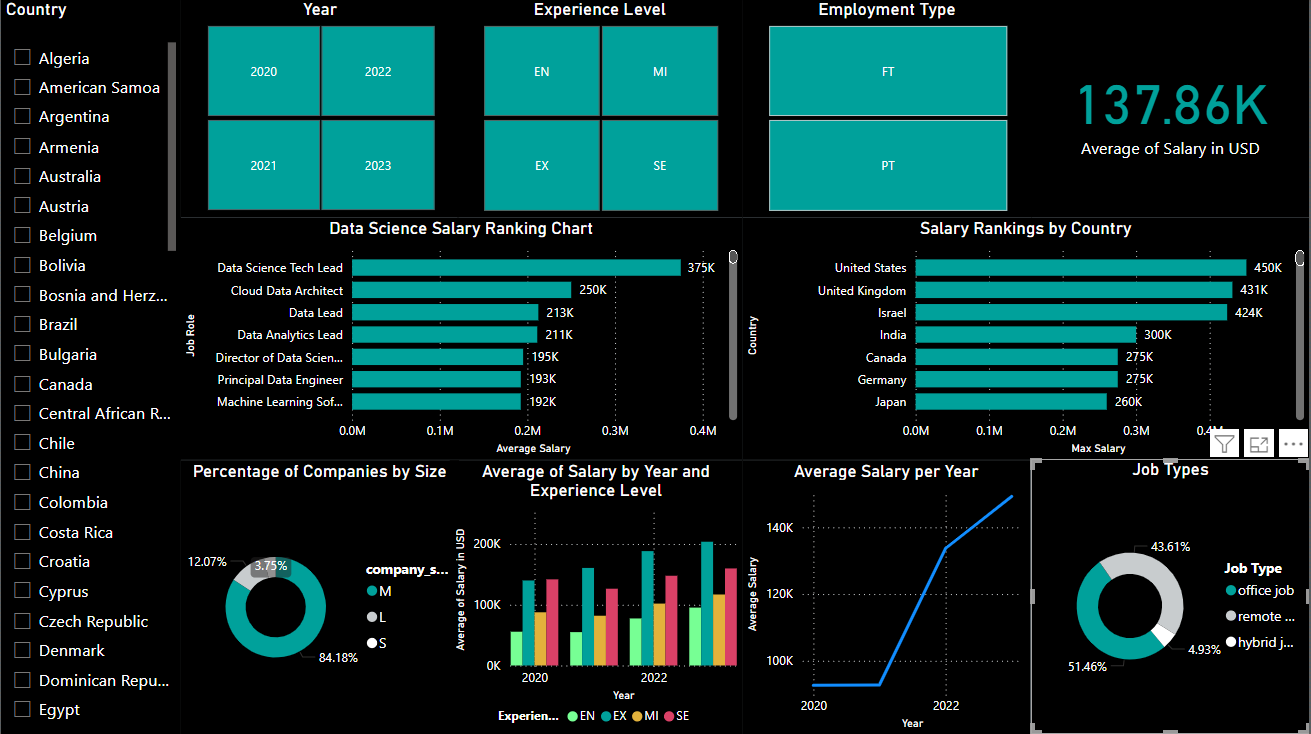

This screenshot's page, from the dashboard's own definition file:
{"tool":"powerbi","page":{"name":"Page 1","canvas":[1280,720],"ordinal":0},"visuals":[{"type":"slicer","title":"Country","fields":{"Values":["ds_salaries_cleaned.employee_residence_full"]},"box":[0,0,175.8,719.3],"z":0},{"type":"slicer","title":"Employment Type","fields":{"Values":["ds_salaries_cleaned.employment_type"]},"box":[725.4,0,283.2,213.9],"z":1000},{"type":"card","title":"Average Salary","fields":{"Values":["Avg(ds_salaries_cleaned.salary_in_usd)"]},"box":[1007.1,0,273.2,213.6],"z":2000},{"type":"slicer","title":"Experience Level","fields":{"Values":["ds_salaries_cleaned.experience_level"]},"box":[446.5,0,278.9,213.9],"z":3000},{"type":"slicer","title":"Year","fields":{"Values":["ds_salaries_cleaned.work_year"]},"box":[175.8,0,271.8,213.6],"z":4000},{"type":"lineChart","title":"Average Salary per Year","fields":{"Y":["Avg(ds_salaries_cleaned.salary_in_usd)"],"Category":["ds_salaries_cleaned.work_year"]},"box":[725.4,450.8,281.8,268.8],"z":5000},{"type":"barChart","title":"Data Science Salary Ranking Chart","fields":{"Category":["ds_salaries_cleaned.job_title"],"Y":["Avg(ds_salaries_cleaned.salary_in_usd)"]},"box":[174.8,213.9,550.6,237],"z":6000},{"type":"barChart","title":"Salary Rankings by Country","fields":{"Category":["ds_salaries_cleaned.employee_residence_full"],"Y":["Max(ds_salaries_cleaned.salary_in_usd)"]},"box":[725.4,213.9,554.9,237],"z":7000},{"type":"donutChart","title":"Job Types","fields":{"Y":["CountNonNull(ds_salaries_cleaned.remote_ratio)"],"Category":["ds_salaries_cleaned.remote_ratio_full"]},"box":[1007.1,450.5,273.2,268.8],"z":8000},{"type":"donutChart","title":"Percentage of Companies by Size","fields":{"Category":["ds_salaries_cleaned.company_size"],"Y":["CountNonNull(ds_salaries_cleaned.company_size)"]},"box":[176.3,450.8,271.7,268.8],"z":9000},{"type":"clusteredColumnChart","title":"Average of Salary by Year and Experience Level","fields":{"Y":["Avg(ds_salaries_cleaned.salary_in_usd)"],"Category":["ds_salaries_cleaned.work_year"],"Series":["ds_salaries_cleaned.experience_level"]},"box":[439.3,450.8,286.1,268.8],"z":10000}]}

Visuals, with their boxes in screenshot pixels (x1, y1, x2, y2), scaled from the page's 1280x720 canvas onto the 1311x734 screenshot:
"Country" slicer: bbox=(0, 0, 180, 733)
"Employment Type" slicer: bbox=(743, 0, 1033, 218)
"Average Salary" card: bbox=(1031, 0, 1310, 218)
"Experience Level" slicer: bbox=(457, 0, 743, 218)
"Year" slicer: bbox=(180, 0, 458, 218)
"Average Salary per Year" lineChart: bbox=(743, 460, 1032, 733)
"Data Science Salary Ranking Chart" barChart: bbox=(179, 218, 743, 460)
"Salary Rankings by Country" barChart: bbox=(743, 218, 1310, 460)
"Job Types" donutChart: bbox=(1031, 459, 1310, 733)
"Percentage of Companies by Size" donutChart: bbox=(181, 460, 459, 733)
"Average of Salary by Year and Experience Level" clusteredColumnChart: bbox=(450, 460, 743, 733)
